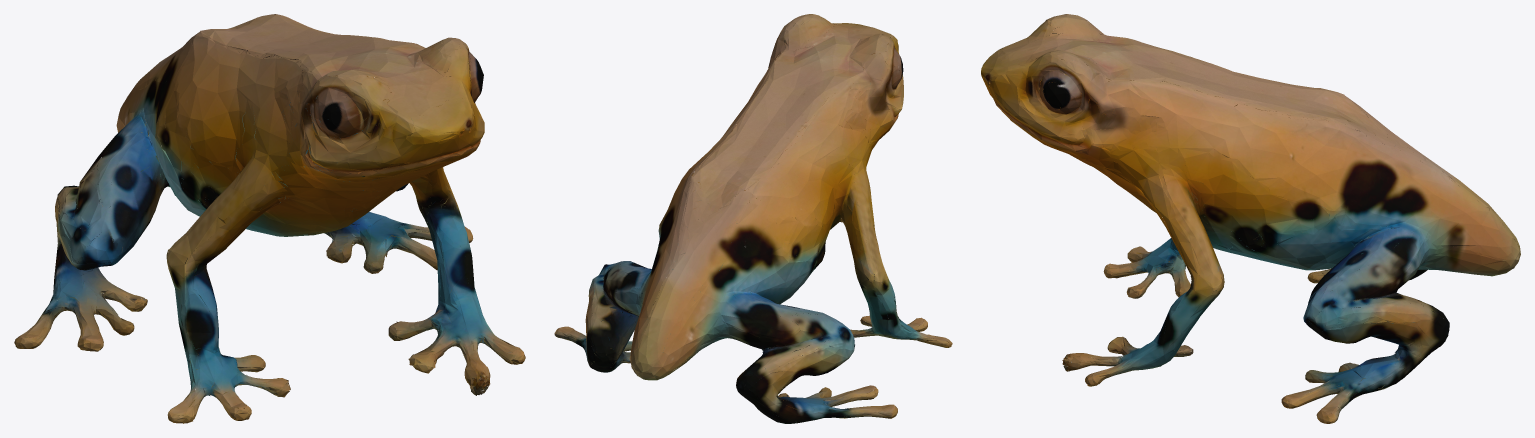
Rendered from rana.fbx.
3 renders of one model, left to right at view 1: azimuth 30°, elevation 25°; view 2: azimuth 150°, elevation 25°; view 3: azimuth 270°, elevation 25°, orthographic. The views are drawn at different scales.
Visible parts, largest first — view 1: rana; view 2: rana; view 3: rana.
Boxes of the visible parts, left/top/right/bottom form: rana: left=14, top=14, right=525, bottom=423; rana: left=554, top=14, right=952, bottom=423; rana: left=981, top=14, right=1520, bottom=423.
Bounding box in the file's own units: 1.64 × 1.25 × 1.99.
1 material, 1 textured.
